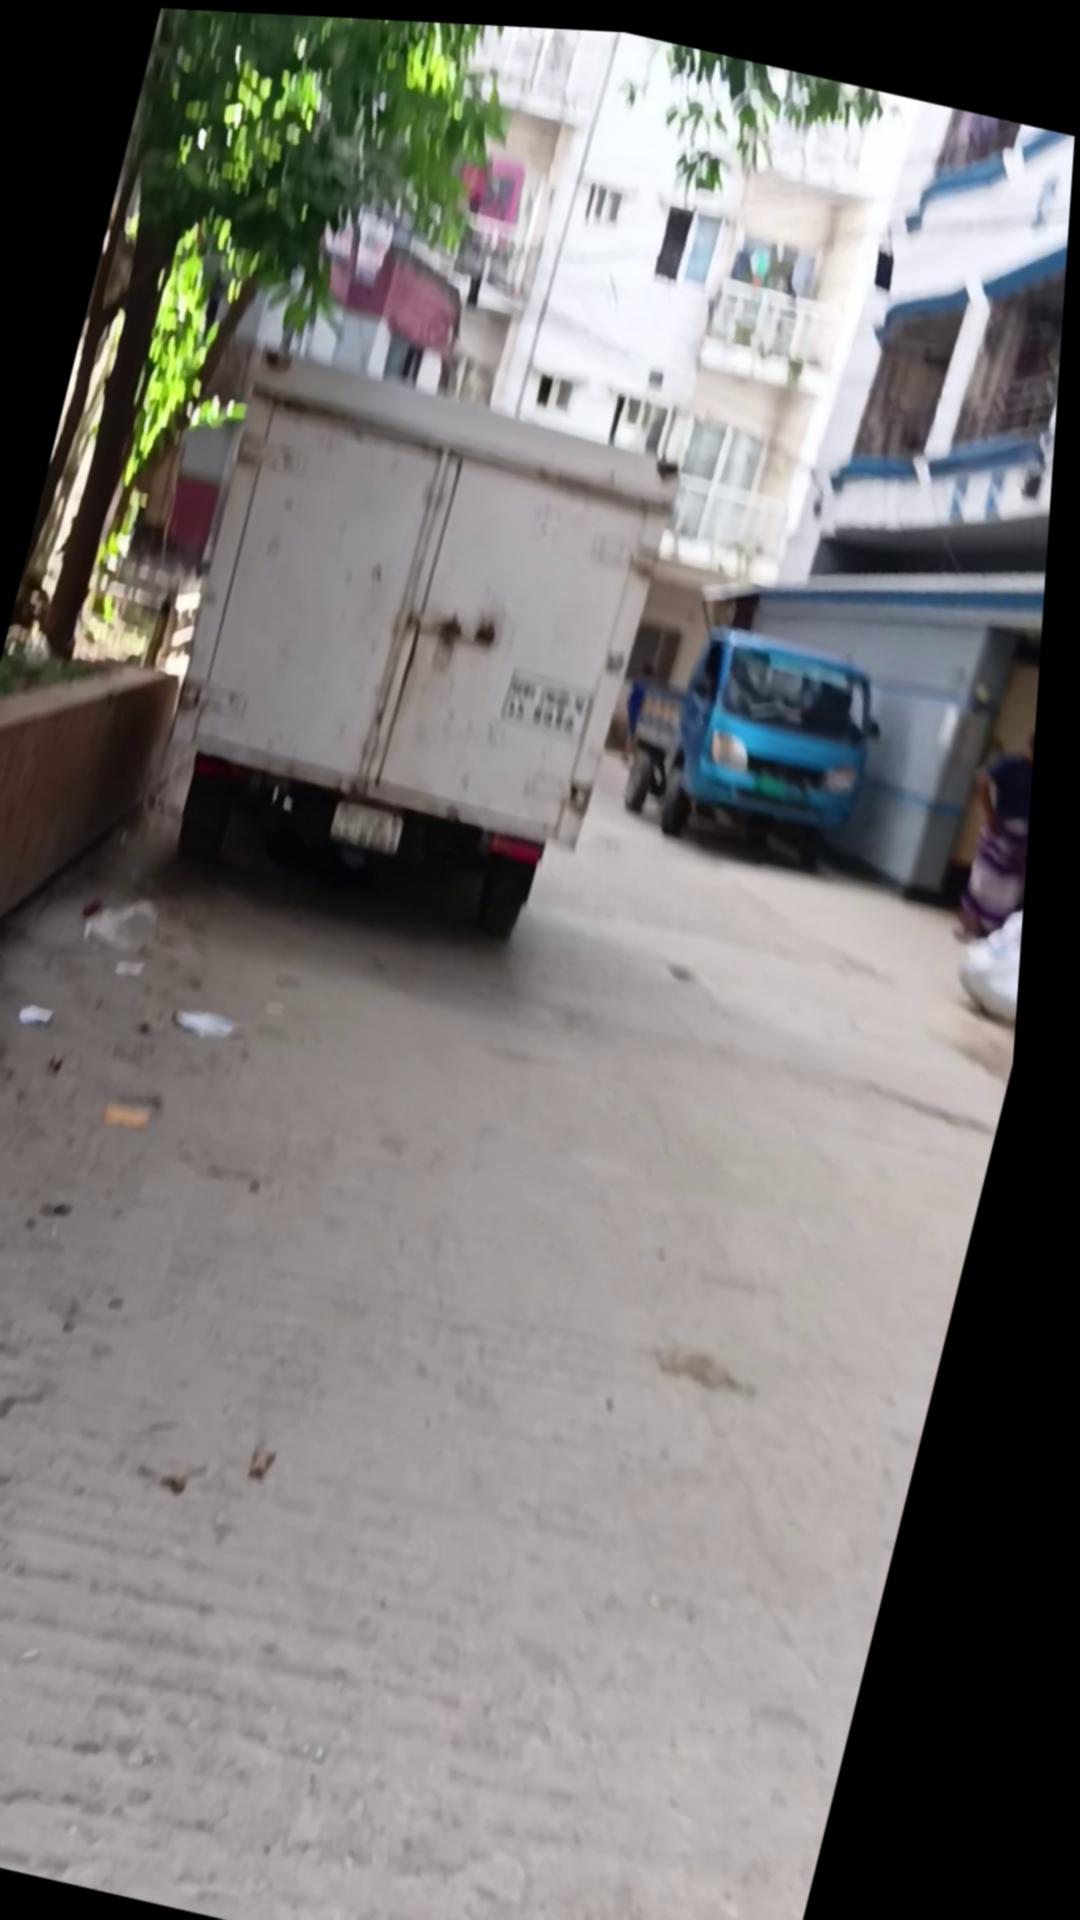Muddy road: (945, 700, 1046, 942), (622, 650, 667, 757)
Traffic-cone: (12, 3, 541, 719)
Traffic-sign: (133, 335, 700, 951), (605, 596, 909, 872)
Tree: (0, 626, 195, 1025)
